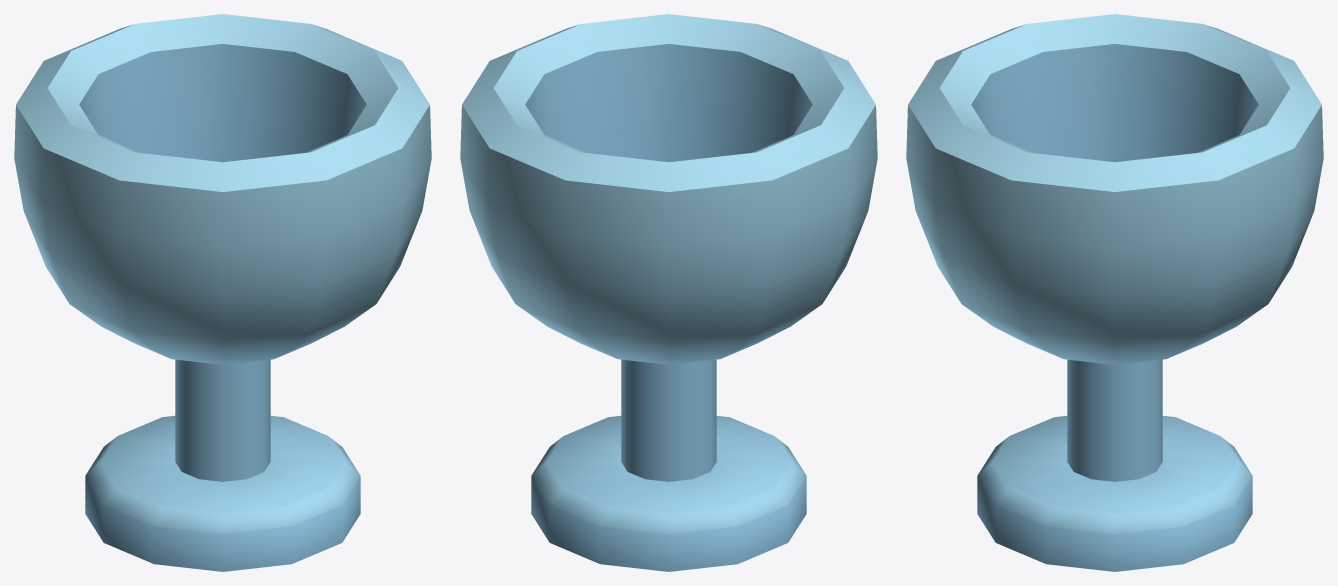
Rendered from glass.glb.
3 views of the same model, side by side, from view 1: azimuth 30°, elevation 25°; view 2: azimuth 150°, elevation 25°; view 3: azimuth 270°, elevation 25° (orthographic).
Visible parts, largest first — view 1: wine_glass; view 2: wine_glass; view 3: wine_glass.
Part boxes in pixels (bbox=[...]): wine_glass: bbox=[14, 14, 431, 571]; wine_glass: bbox=[460, 14, 877, 571]; wine_glass: bbox=[906, 14, 1323, 571].
Size of the model in its own units: 0.4 by 0.45 by 0.4.
1 material, 1 textured.
